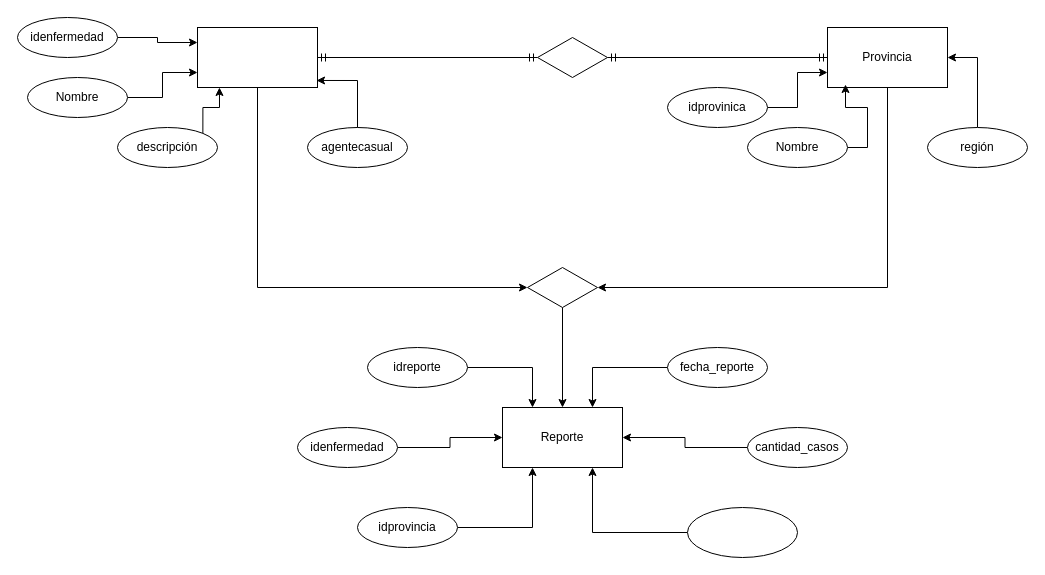
The diagram is 1045 pixels wide and 575 high, and some of its shapes have lost their labels. Here are the shapes that lost their labels. From the top down, the box of each, then its label:
(196, 26, 318, 88): Enfermedad
(536, 36, 608, 78): en
(526, 266, 598, 308): tiene
(686, 506, 798, 558): cantidad_fallecidos
